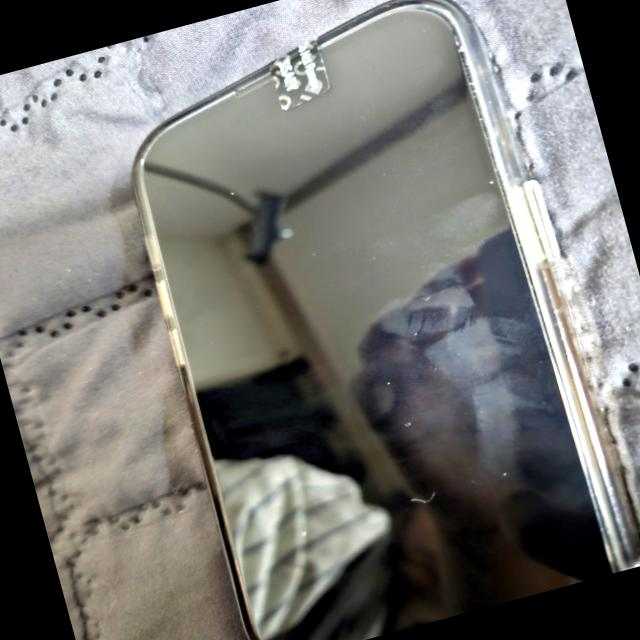phone: (92, 0, 640, 640)
removed_sticker: (264, 37, 332, 113)
